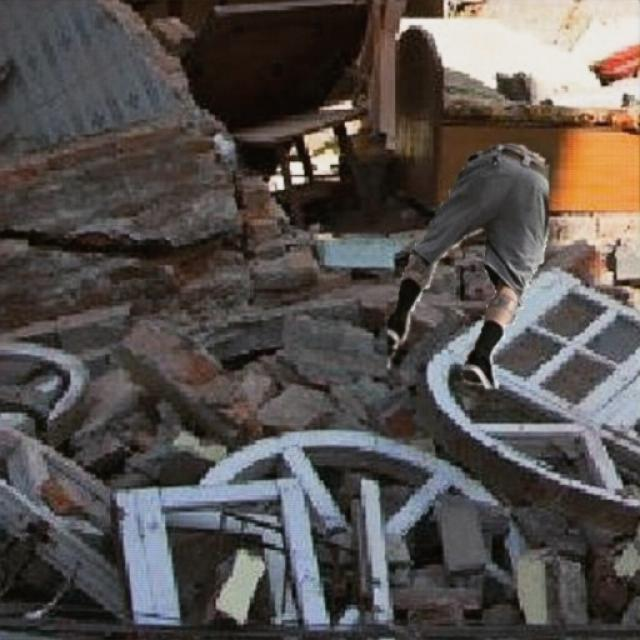Person in Rubble: (388, 144, 548, 388)
